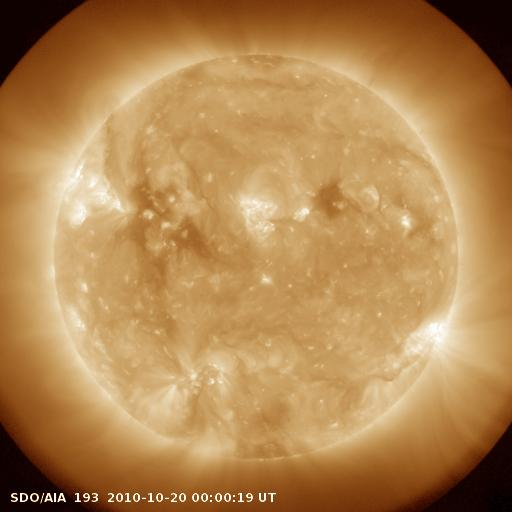coronal_hole: (124, 183, 221, 282), (307, 176, 362, 221)
